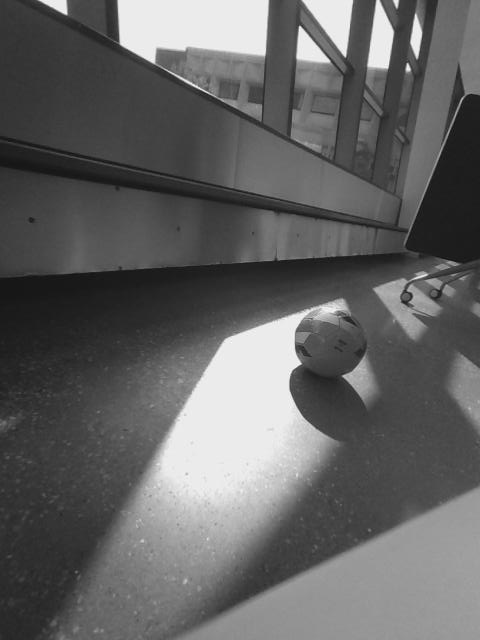ball: (295, 305, 368, 380)
